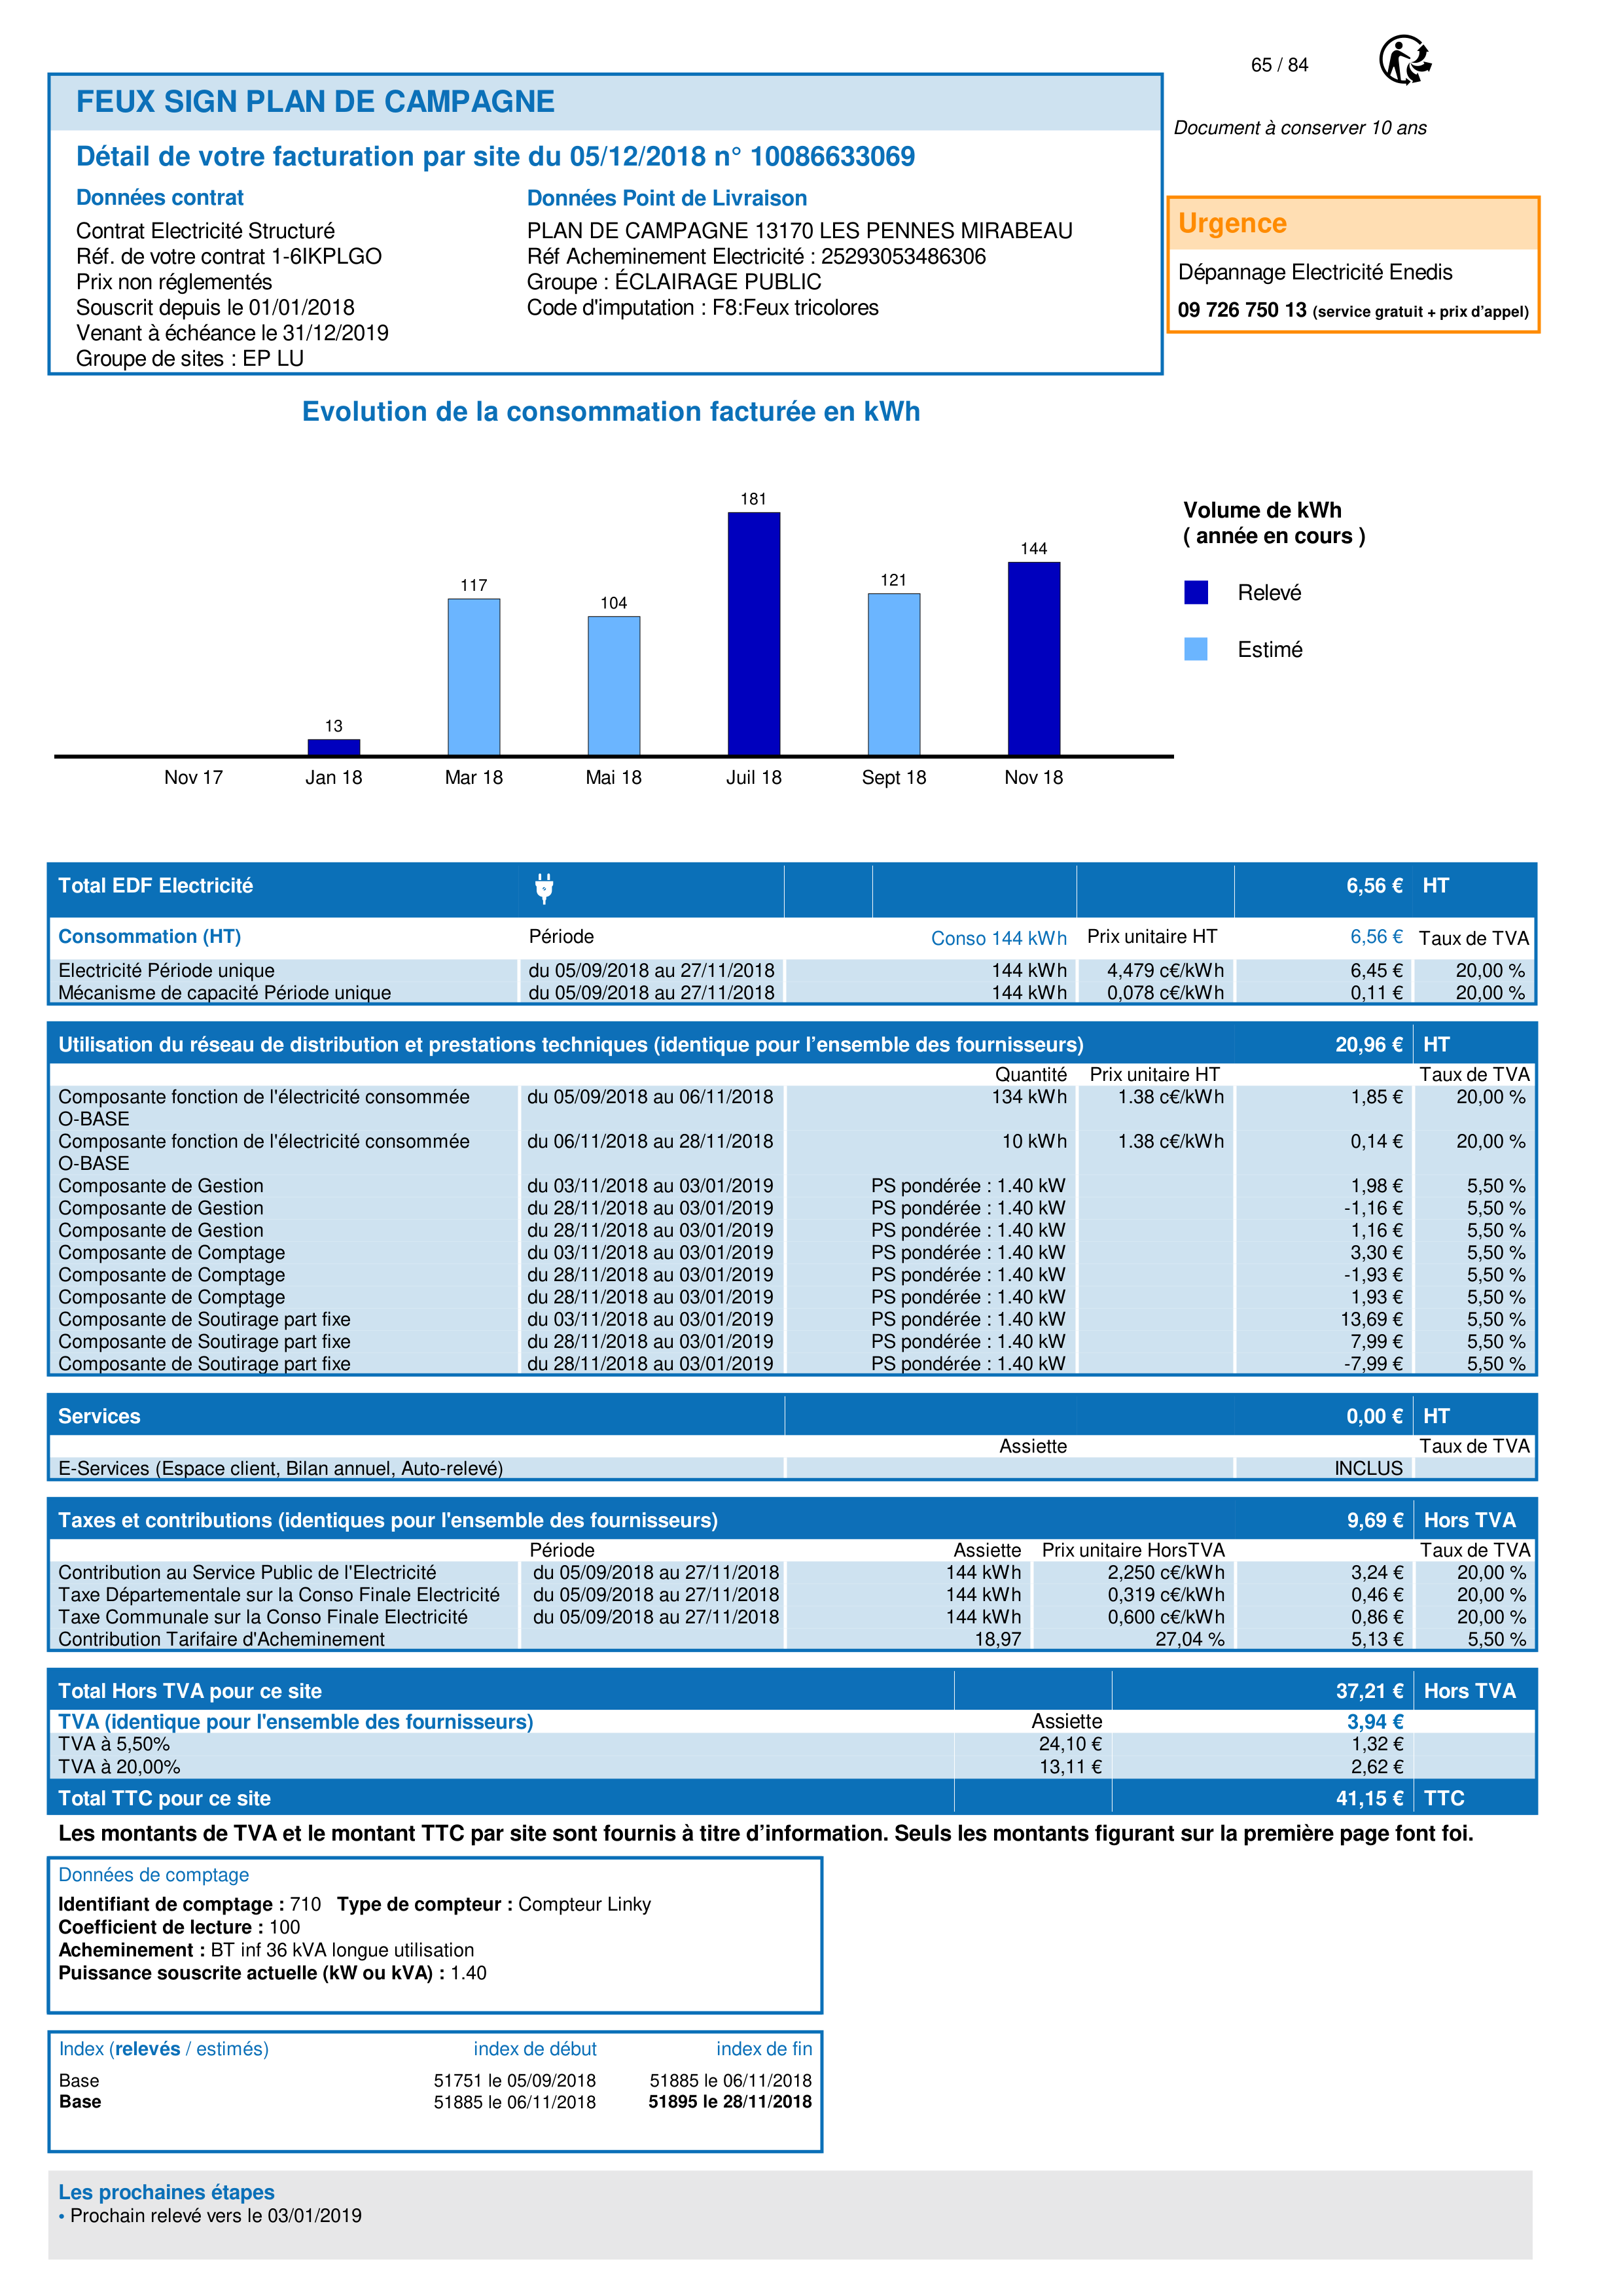area: (46, 2031, 822, 2150)
type_indicator: (47, 2033, 274, 2066)
